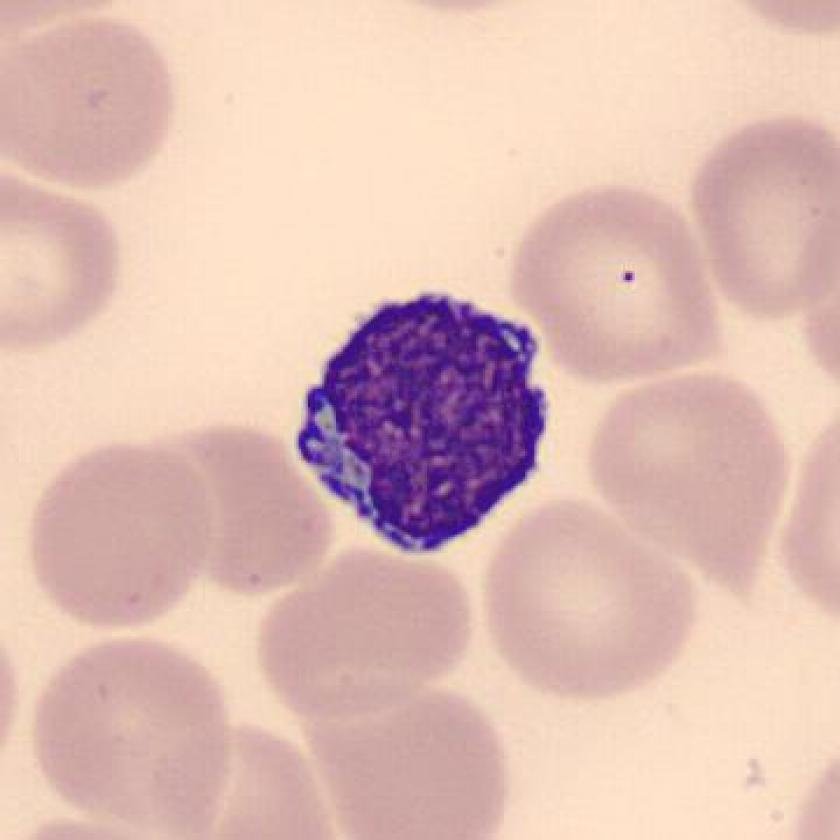lymphocyte: (269, 279, 568, 570)
